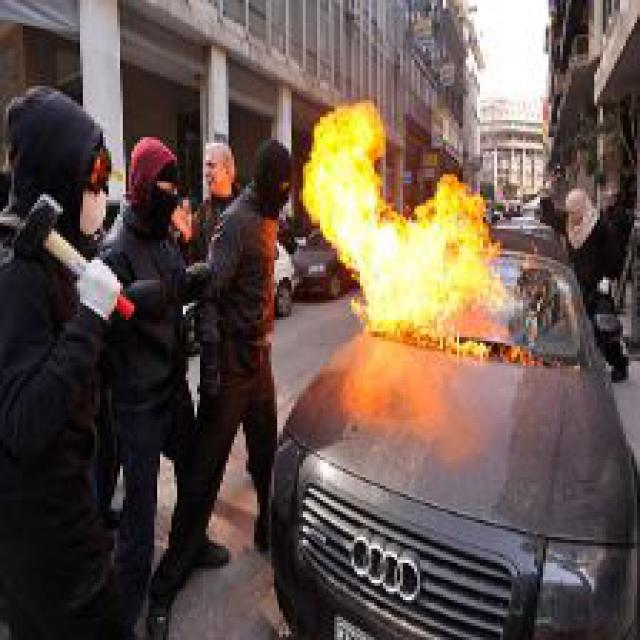fire: (297, 89, 509, 360)
